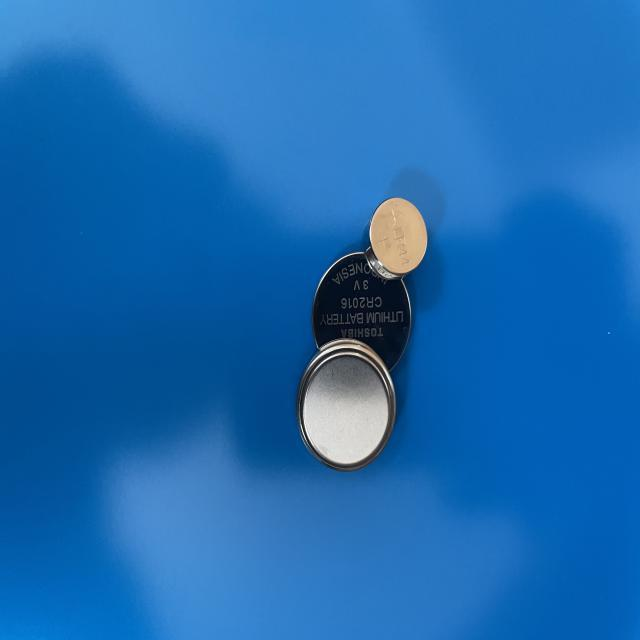COIN: (292, 340, 396, 476), (310, 250, 413, 380), (366, 192, 432, 282)
